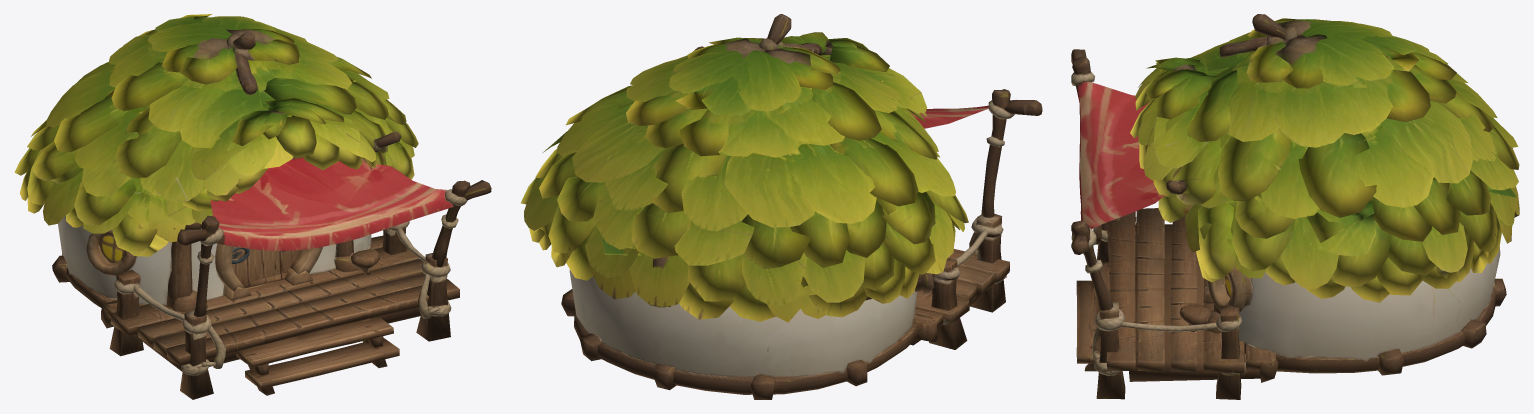
The model's file is treehut.glb.
3 views of the same model, side by side, from view 1: azimuth 30°, elevation 25°; view 2: azimuth 150°, elevation 25°; view 3: azimuth 270°, elevation 25° (orthographic). The views are drawn at different scales.
Visible parts, largest first — view 1: treehut; view 2: treehut; view 3: treehut.
Part boxes in pixels (<box>): treehut: <box>14,14,491,399</box>; treehut: <box>521,14,1042,399</box>; treehut: <box>1071,14,1519,399</box>.
Bounding box in the file's own units: 1 × 0.7983 × 1.
Materials: 1 (1 with a texture image).
